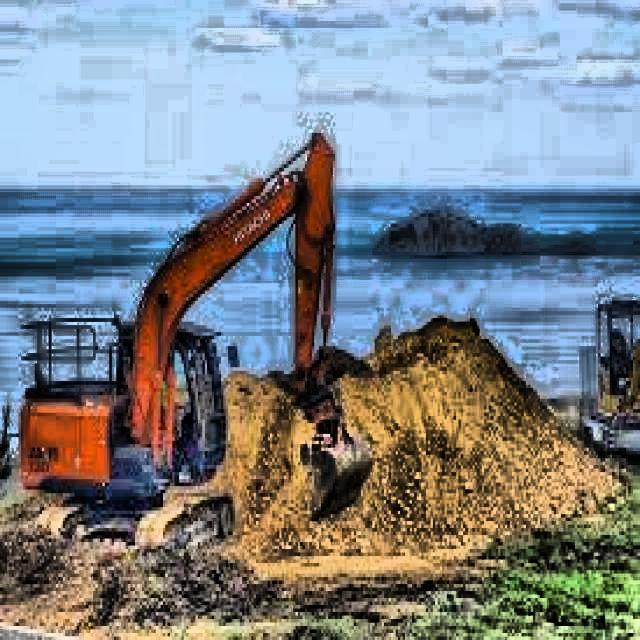bull_dozer/loader/grader: (14, 124, 380, 578), (558, 270, 640, 460)
person: (606, 332, 630, 386)
